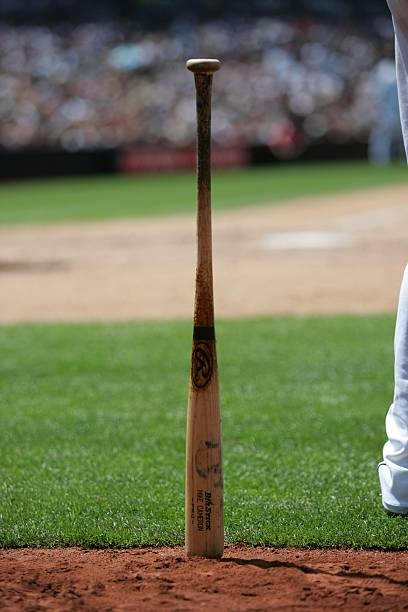bita: (183, 56, 223, 560)
